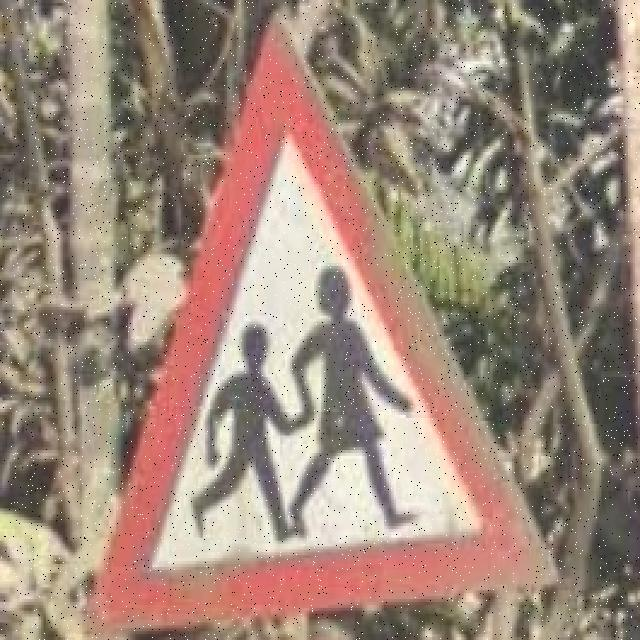School-in-front: (79, 13, 574, 621)
